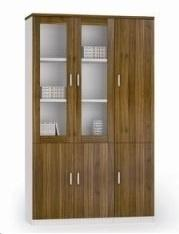cabinet_door: (76, 142, 154, 215), (33, 14, 75, 142), (113, 19, 155, 143), (75, 17, 113, 141), (34, 142, 76, 219)
handle: (116, 170, 122, 186), (68, 172, 74, 187), (75, 171, 81, 186), (117, 73, 121, 88), (77, 72, 80, 88), (70, 73, 73, 88)
